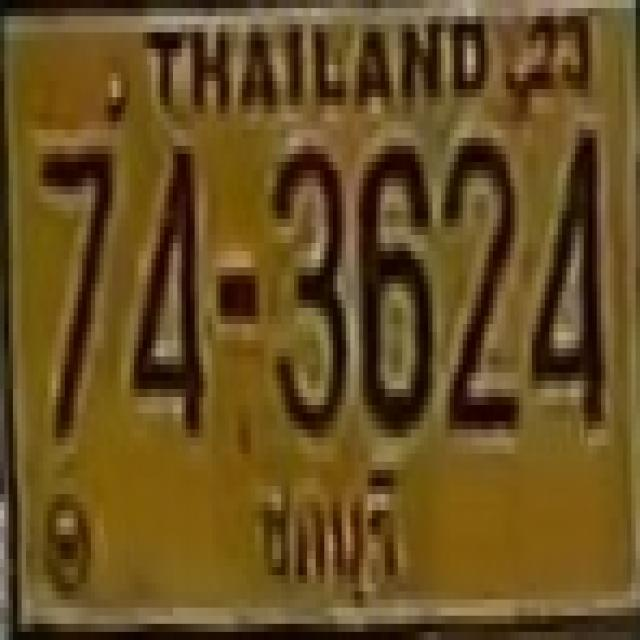2: (443, 130, 512, 421)
3: (272, 138, 342, 429)
4: (528, 122, 601, 421), (130, 138, 199, 429)
6: (355, 138, 428, 429)
7: (37, 142, 110, 433)
CBI: (247, 451, 409, 614)
